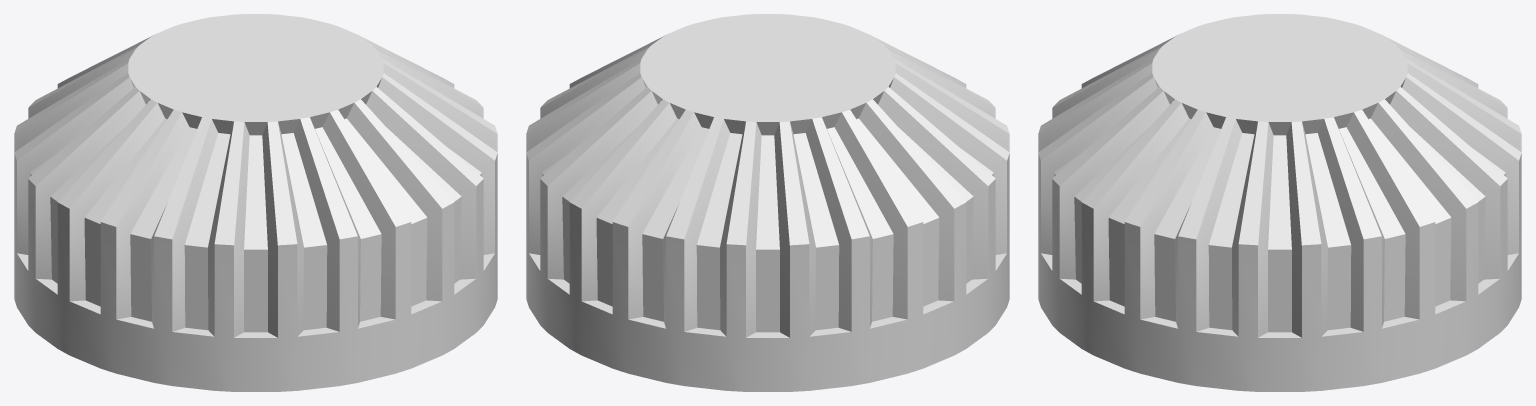
Rendered from Electromagnet.fbx.
The picture shows the model from 3 angles, left to right: view 1: azimuth 30°, elevation 25°; view 2: azimuth 150°, elevation 25°; view 3: azimuth 270°, elevation 25°; orthographic projection.
Parts seen in each view (by area): view 1: Electromagnet; view 2: Electromagnet; view 3: Electromagnet.
Part boxes in pixels (x1=…): Electromagnet: x1=14, y1=14, x2=497, y2=391; Electromagnet: x1=526, y1=14, x2=1009, y2=391; Electromagnet: x1=1038, y1=14, x2=1521, y2=391.
Bounding box in the file's own units: 82.57 × 41.81 × 82.57.
